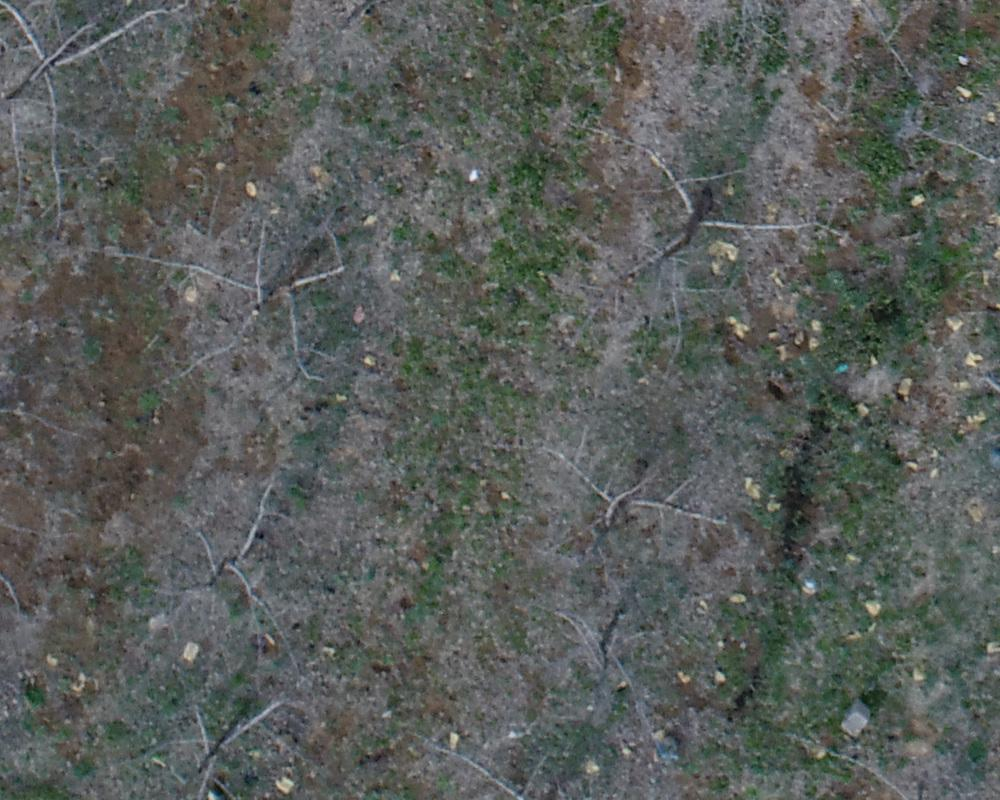apple: (531, 128, 835, 382), (91, 220, 388, 410), (10, 10, 199, 205), (117, 469, 329, 637), (502, 438, 758, 563), (120, 694, 307, 790)
